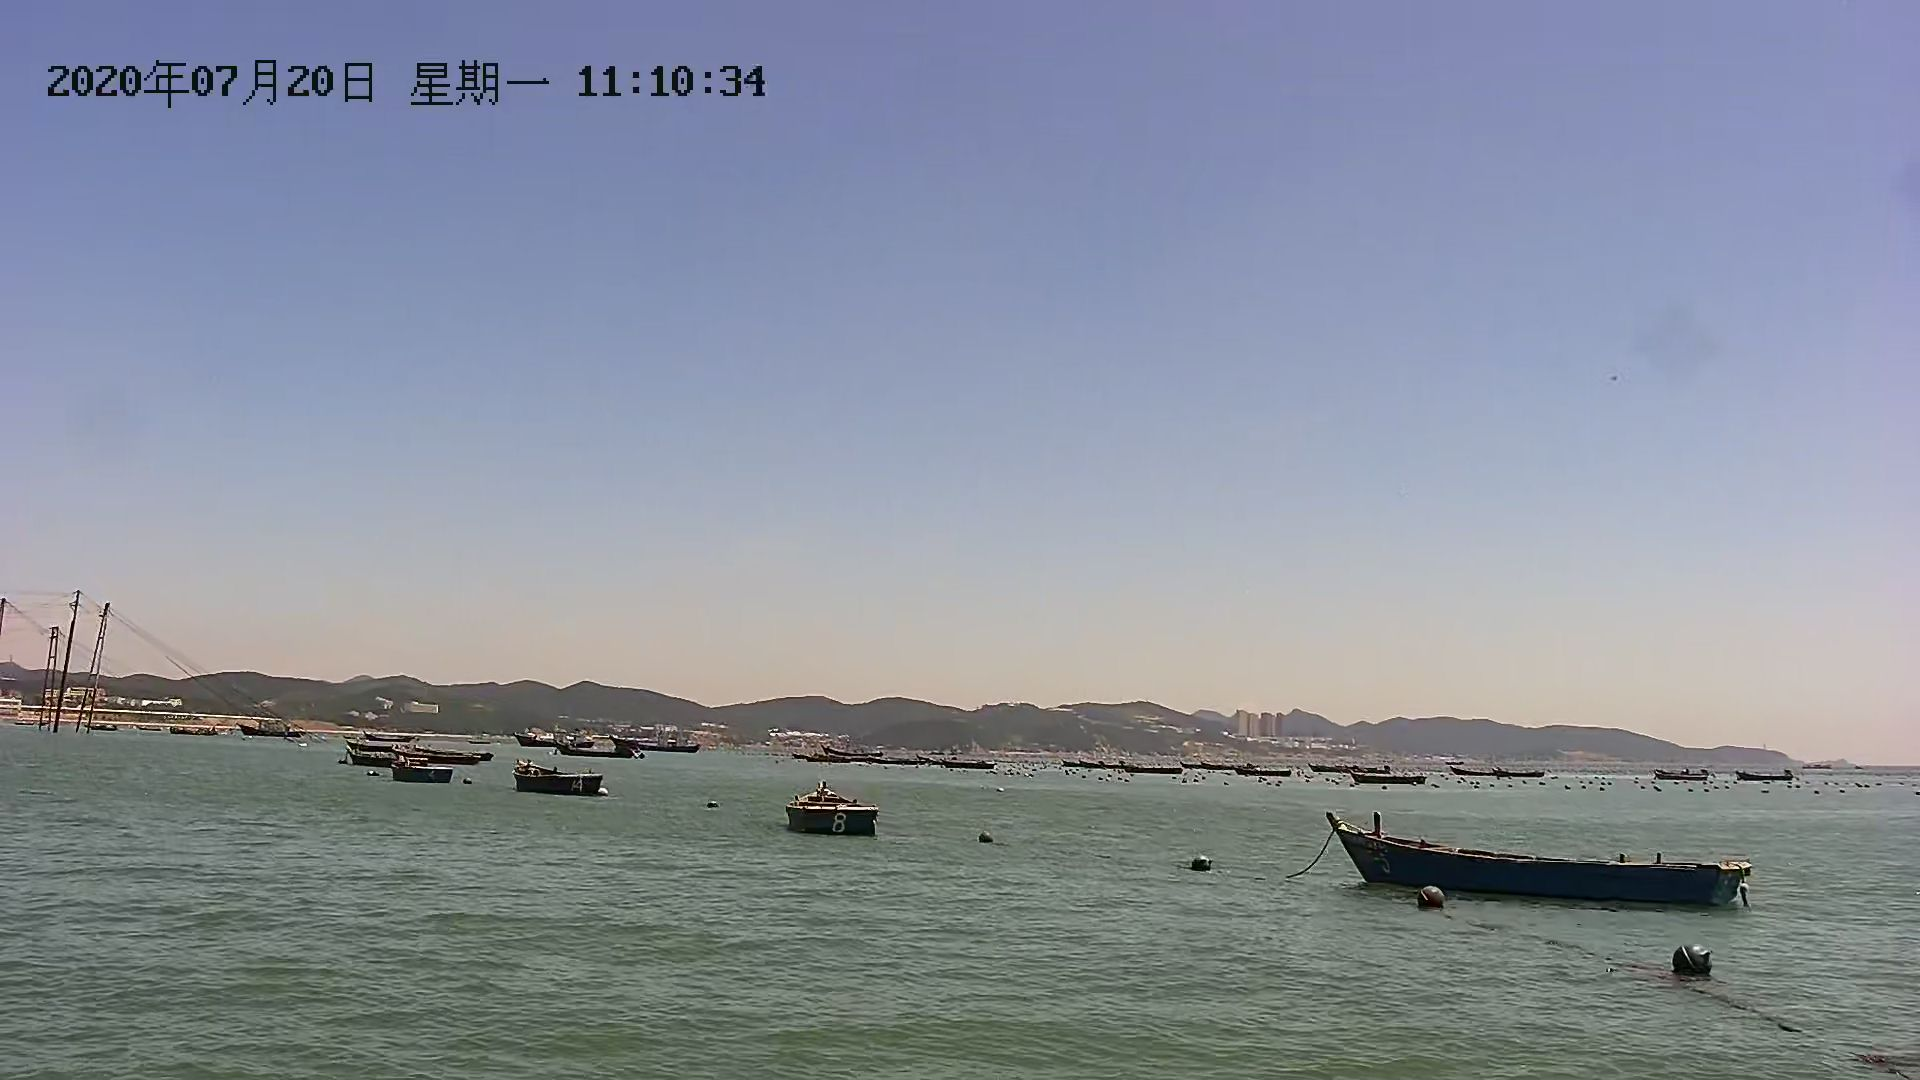ball: (1664, 945, 1718, 982), (1410, 884, 1445, 915), (1189, 847, 1212, 872), (980, 824, 1001, 847)
boat: (1325, 802, 1763, 916), (782, 785, 882, 839), (510, 761, 615, 799), (422, 746, 516, 775), (351, 735, 426, 767), (388, 756, 455, 787)
